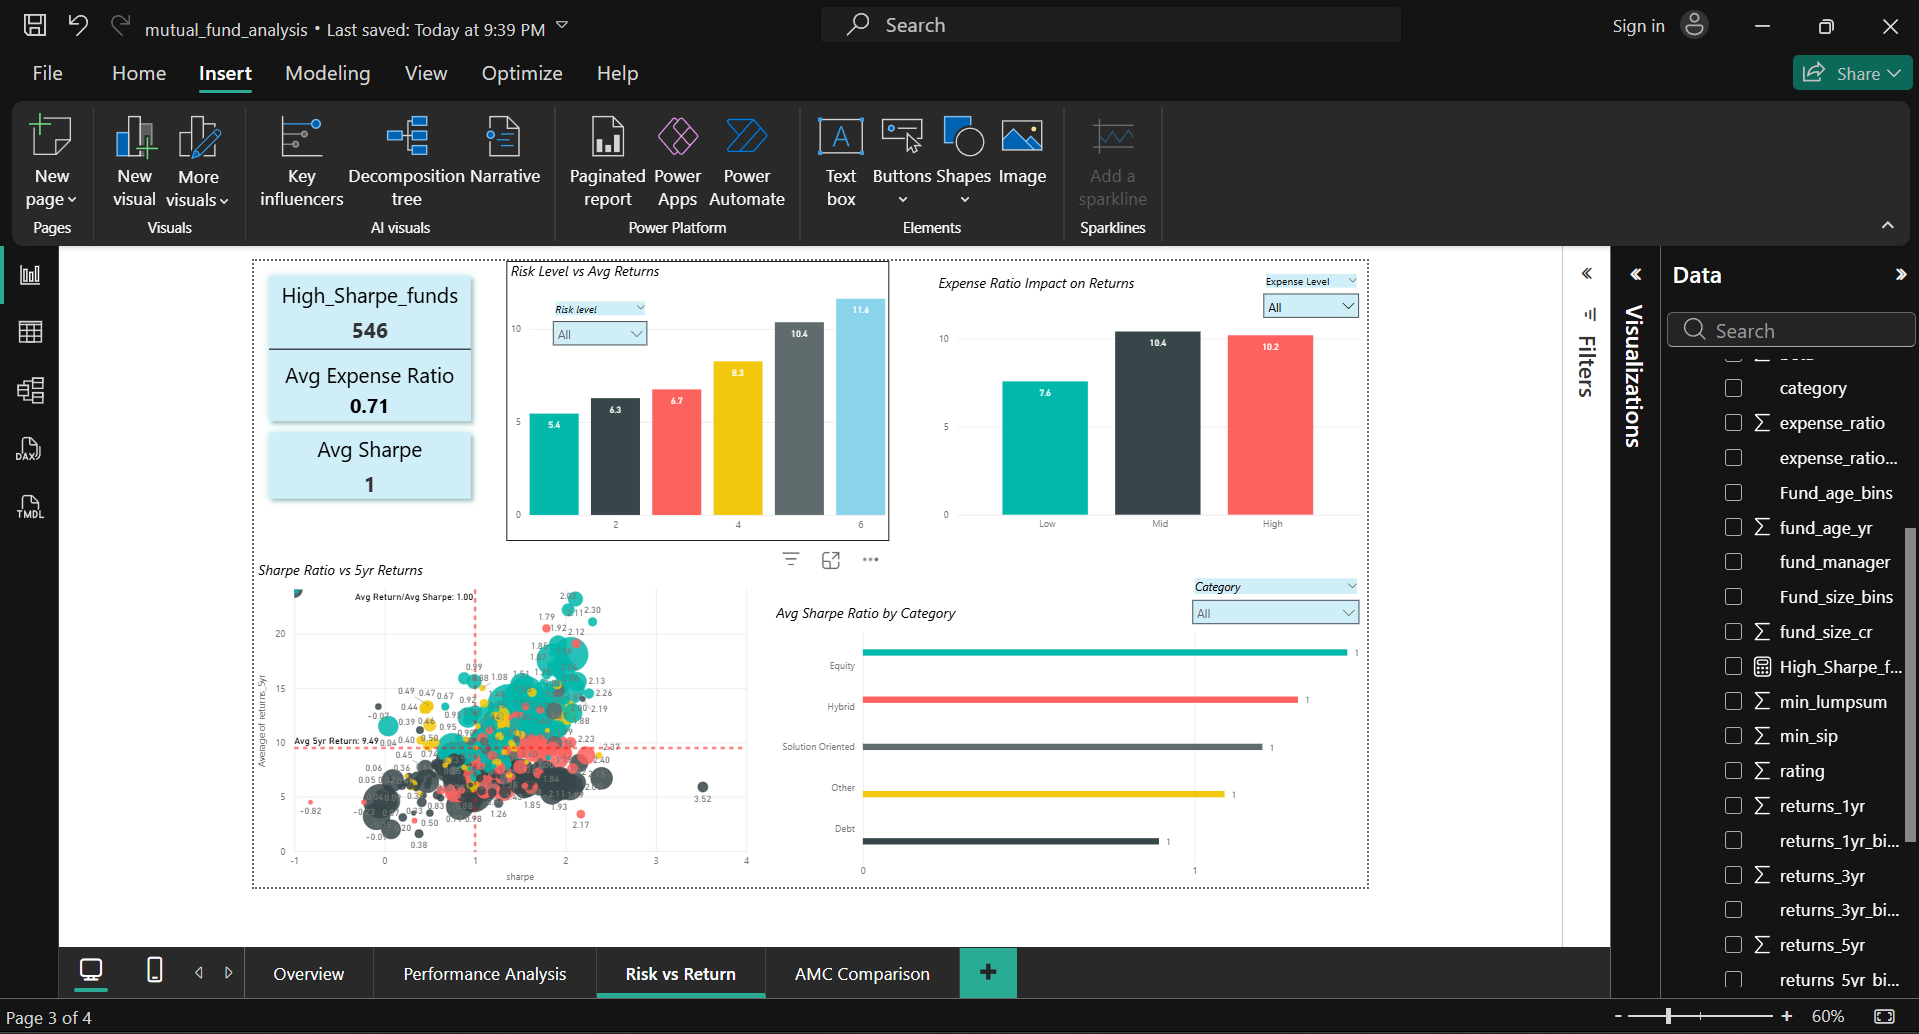

What the dashboard file says about the page in this screenshot:
{"tool":"powerbi","page":{"name":"Risk vs Return","canvas":[1280,720],"ordinal":2},"visuals":[{"type":"cardVisual","fields":{"Data":["comprehensive_mutual_funds_data.Avg Sharpe"]},"box":[0,180.2,266.5,110.6],"z":0},{"type":"cardVisual","fields":{"Data":["comprehensive_mutual_funds_data.High_Sharpe_funds"]},"box":[0,0,266.5,201.4],"z":1000},{"type":"scatterChart","title":"Sharpe Ratio vs 5yr Returns","fields":{"X":["comprehensive_mutual_funds_data.sharpe"],"Y":["Avg(comprehensive_mutual_funds_data.returns_5yr)"],"Series":["comprehensive_mutual_funds_data.category"],"Size":["Sum(comprehensive_mutual_funds_data.fund_size_cr)"]},"box":[0,343.8,574,375.6],"z":2000},{"type":"clusteredBarChart","title":"Avg Sharpe Ratio by Category","fields":{"Y":["comprehensive_mutual_funds_data.Avg Sharpe"],"Category":["comprehensive_mutual_funds_data.category"],"Series":["comprehensive_mutual_funds_data.category"]},"box":[595.2,393.8,684.5,325.6],"z":3000},{"type":"columnChart","title":"Expense Ratio Impact on Returns","fields":{"Category":["comprehensive_mutual_funds_data.expense_ration_bins"],"Y":["comprehensive_mutual_funds_data.Avg 5yr_returns"],"Series":["comprehensive_mutual_funds_data.expense_ration_bins"]},"box":[781.5,13.6,498.3,307.4],"z":4000},{"type":"columnChart","title":"Risk Level vs Avg Returns","fields":{"Category":["comprehensive_mutual_funds_data.risk_level"],"Y":["comprehensive_mutual_funds_data.Avg 5yr_returns"],"Series":["comprehensive_mutual_funds_data.risk_level"]},"box":[289.3,0,440.7,321.1],"z":5000},{"type":"slicer","fields":{"Values":["comprehensive_mutual_funds_data.risk_level"]},"box":[333.2,42.4,128.7,57.5],"z":6000},{"type":"slicer","fields":{"Values":["comprehensive_mutual_funds_data.expense_ration_bins"]},"box":[1149.5,10.6,130.2,62.1],"z":7000},{"type":"slicer","fields":{"Values":["comprehensive_mutual_funds_data.category"]},"box":[1067.7,360.4,212,60.6],"z":8000}]}

Visuals, with their boxes on the page's 1280x720 design canvas (x1, y1, x2, y2). These are canvas units, not pixel positions in the 1919x1034 screenshot, which may show the page scaled, cropped or inside an application window:
cardVisual - comprehensive_mutual_funds_data.Avg Sharpe: detection(0, 180, 266, 291)
cardVisual - comprehensive_mutual_funds_data.High_Sharpe_funds: detection(0, 0, 266, 201)
"Sharpe Ratio vs 5yr Returns" scatterChart: detection(0, 344, 574, 719)
"Avg Sharpe Ratio by Category" clusteredBarChart: detection(595, 394, 1280, 719)
"Expense Ratio Impact on Returns" columnChart: detection(782, 14, 1280, 321)
"Risk Level vs Avg Returns" columnChart: detection(289, 0, 730, 321)
slicer - comprehensive_mutual_funds_data.risk_level: detection(333, 42, 462, 100)
slicer - comprehensive_mutual_funds_data.expense_ration_bins: detection(1150, 11, 1280, 73)
slicer - comprehensive_mutual_funds_data.category: detection(1068, 360, 1280, 421)
